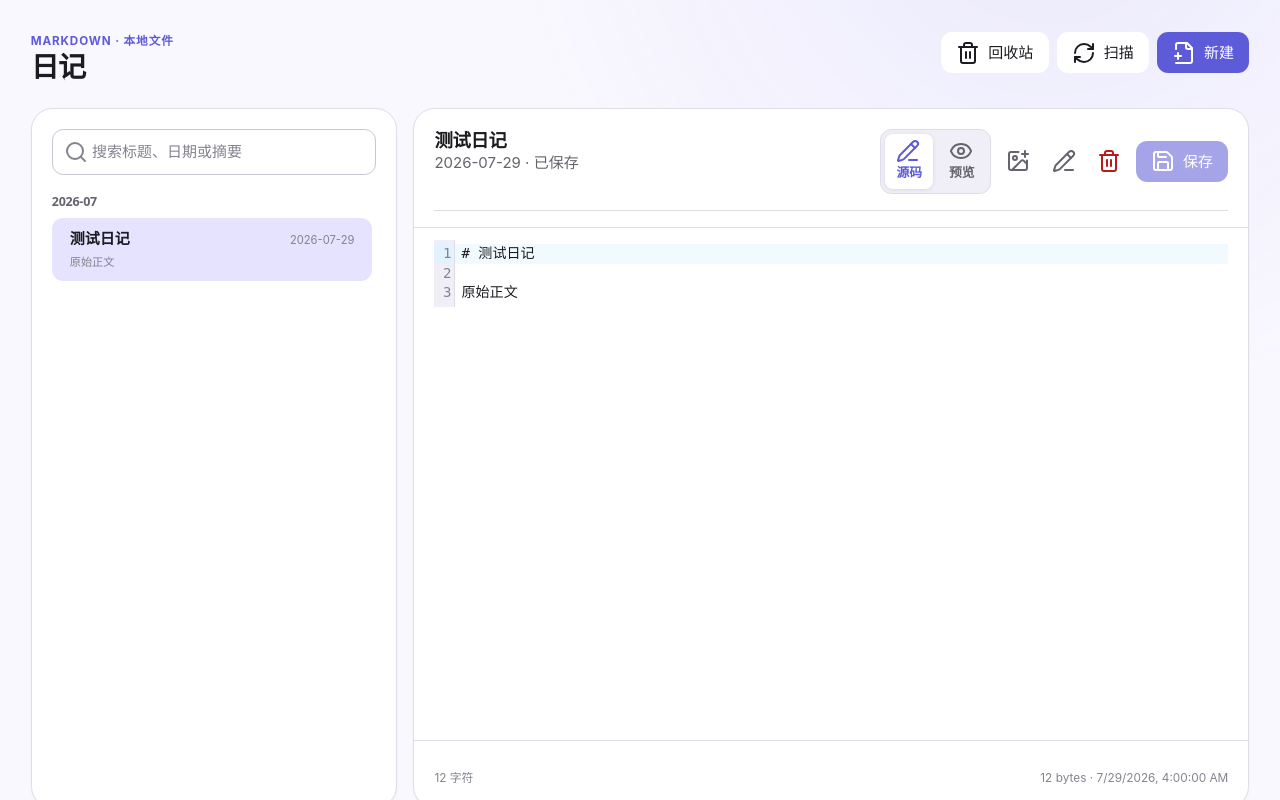
Test: DiaryPage file conflict flow › never overwrites an external edit until the user confirms
Expected: the heading "测试日记" is shown, [434,127,507,152]
Expected: the element named "Markdown 日记正文" is shown, [414,227,1248,741]
Click the button named "导入图片": coordinates (1018, 161) [999,143,1037,180]
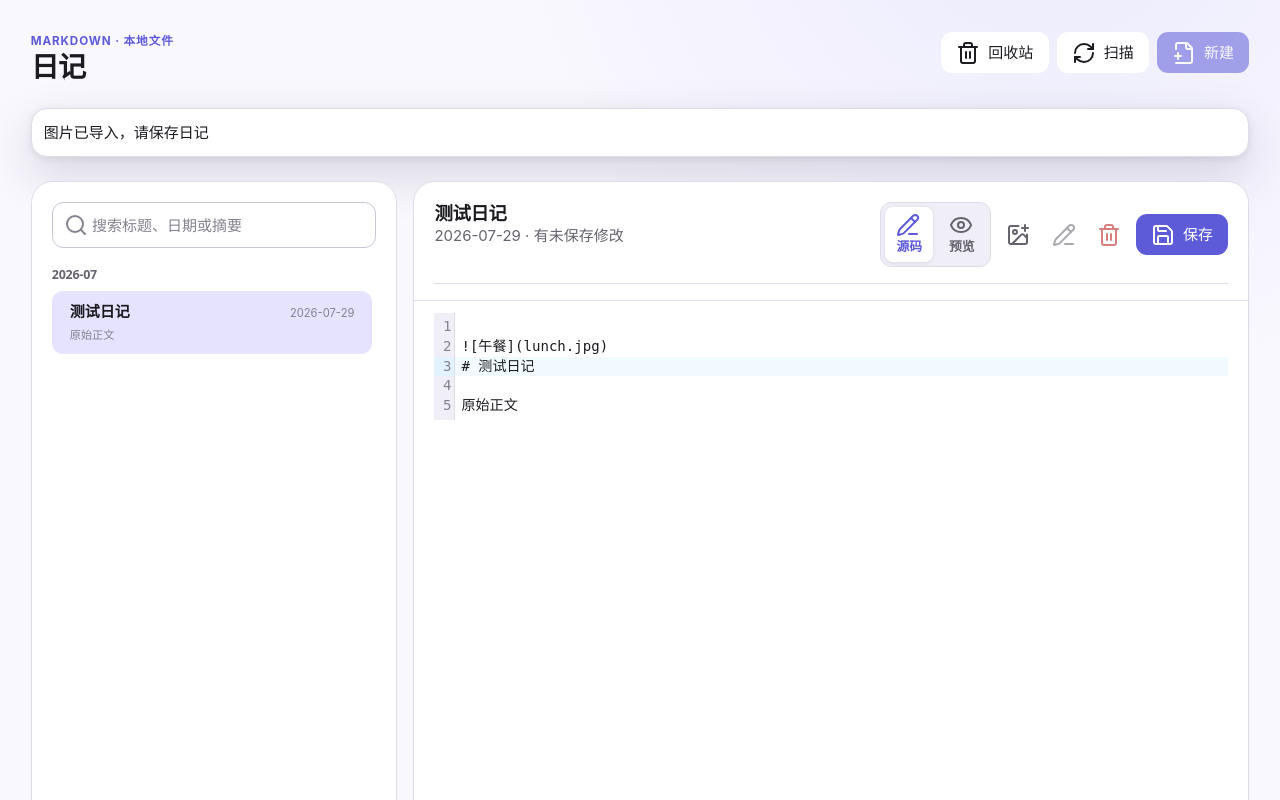
Expected: the button "保存" is enabled
Click the button "保存": coordinates (1182, 235) [1136,214,1228,255]
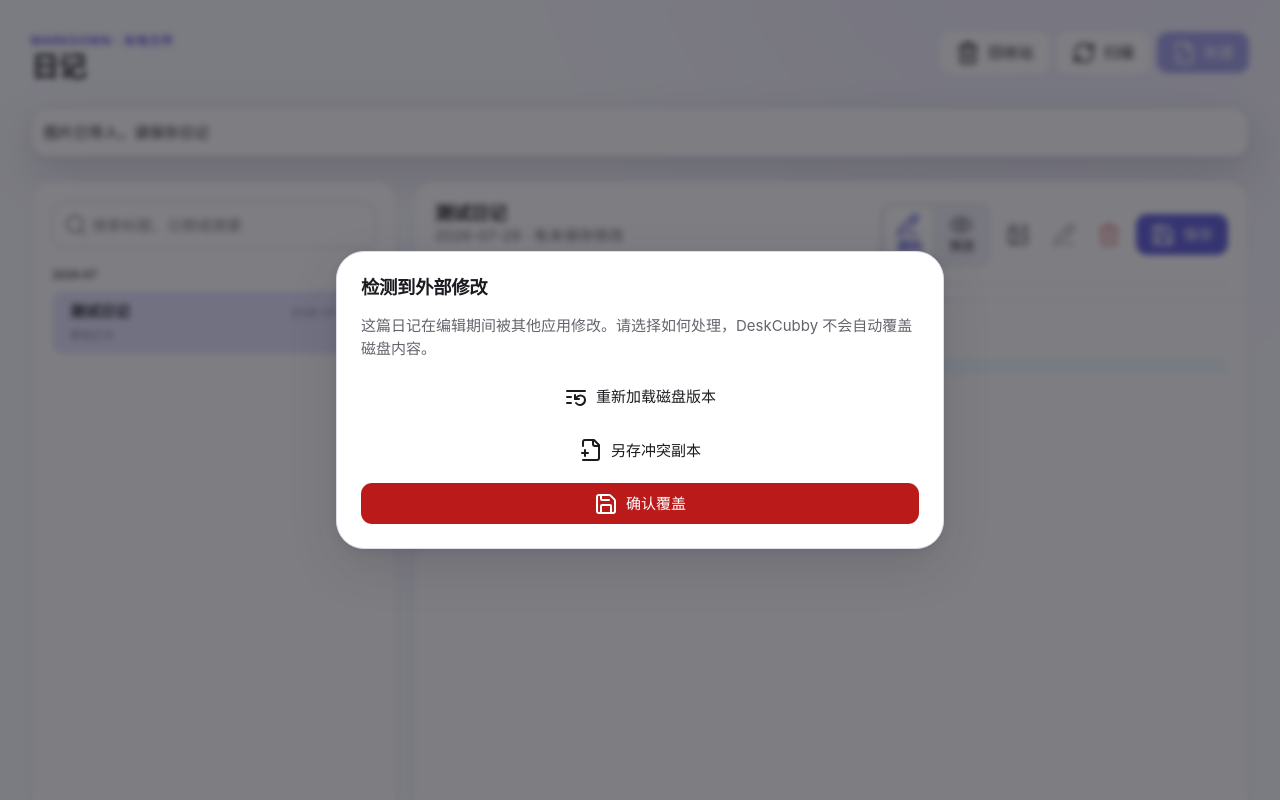
Expected: the dialog "检测到外部修改" shows "不会自动覆盖磁盘内容", [361,316,912,358]
Expected: the button "重新加载磁盘版本" is shown, [361,376,919,418]
Expected: the button "另存冲突副本" is shown, [361,430,919,471]
Click the button "确认覆盖": coordinates (640, 504) [361,483,919,524]
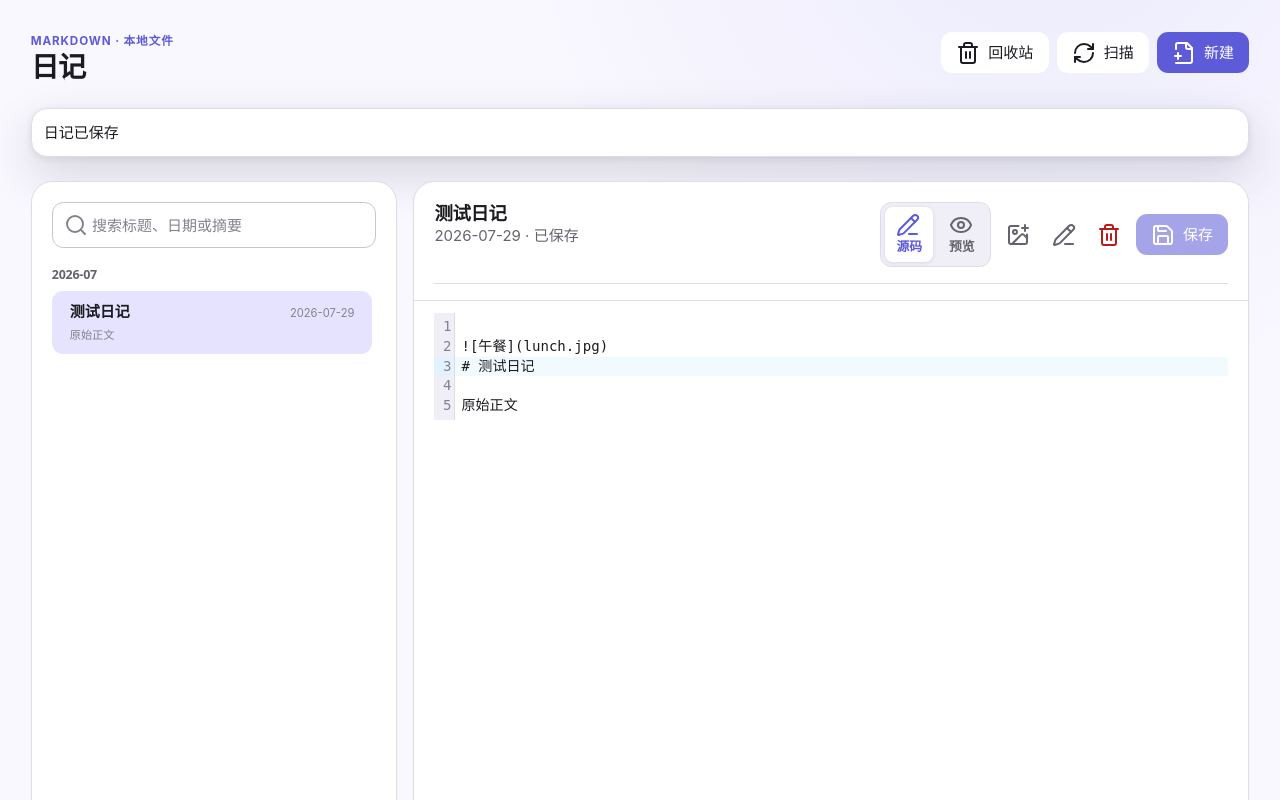
Expected: the text "日记已保存" is shown, [31,108,1249,157]
Expected: the dialog is gone
